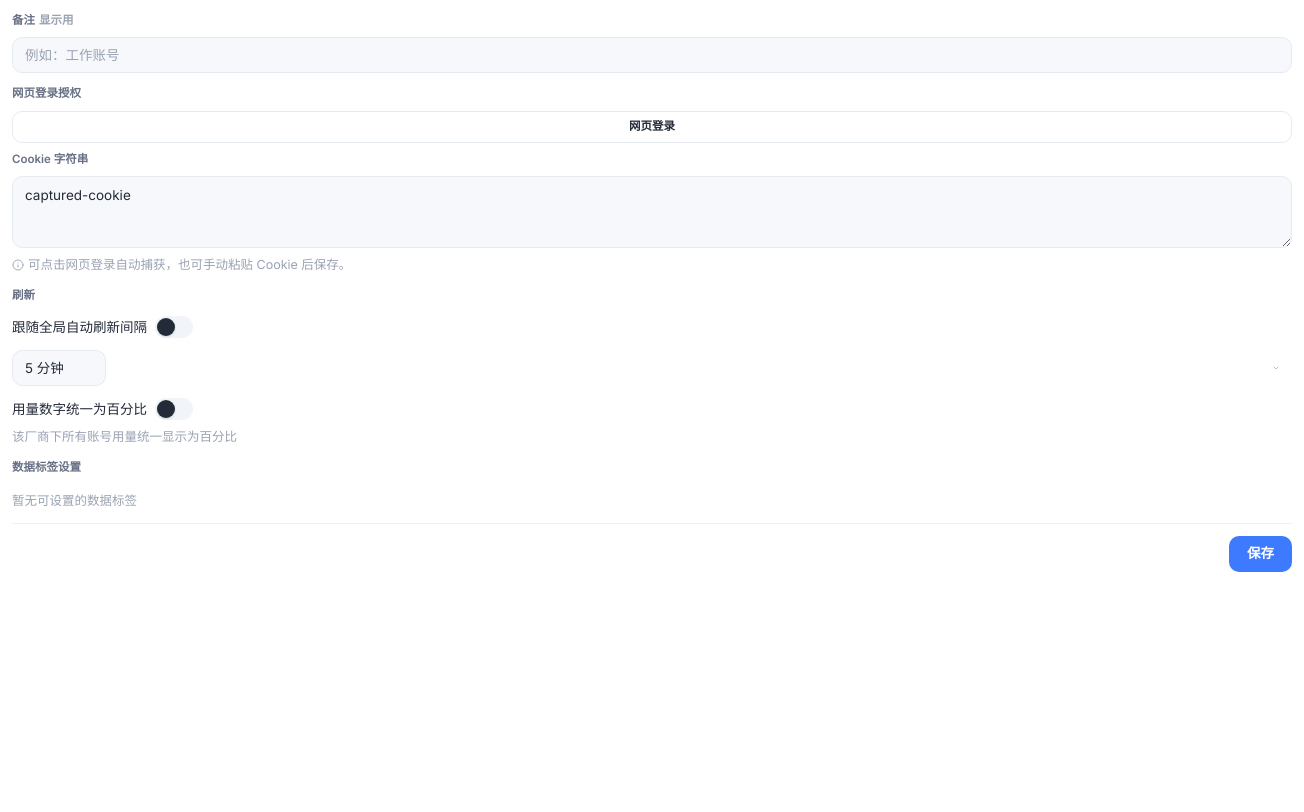
it: SettingsForm web_login editing (t157) › does not save when web login captures no cookie
Click the button "网页登录". click: [652, 126]
box: [12,110,1292,142]
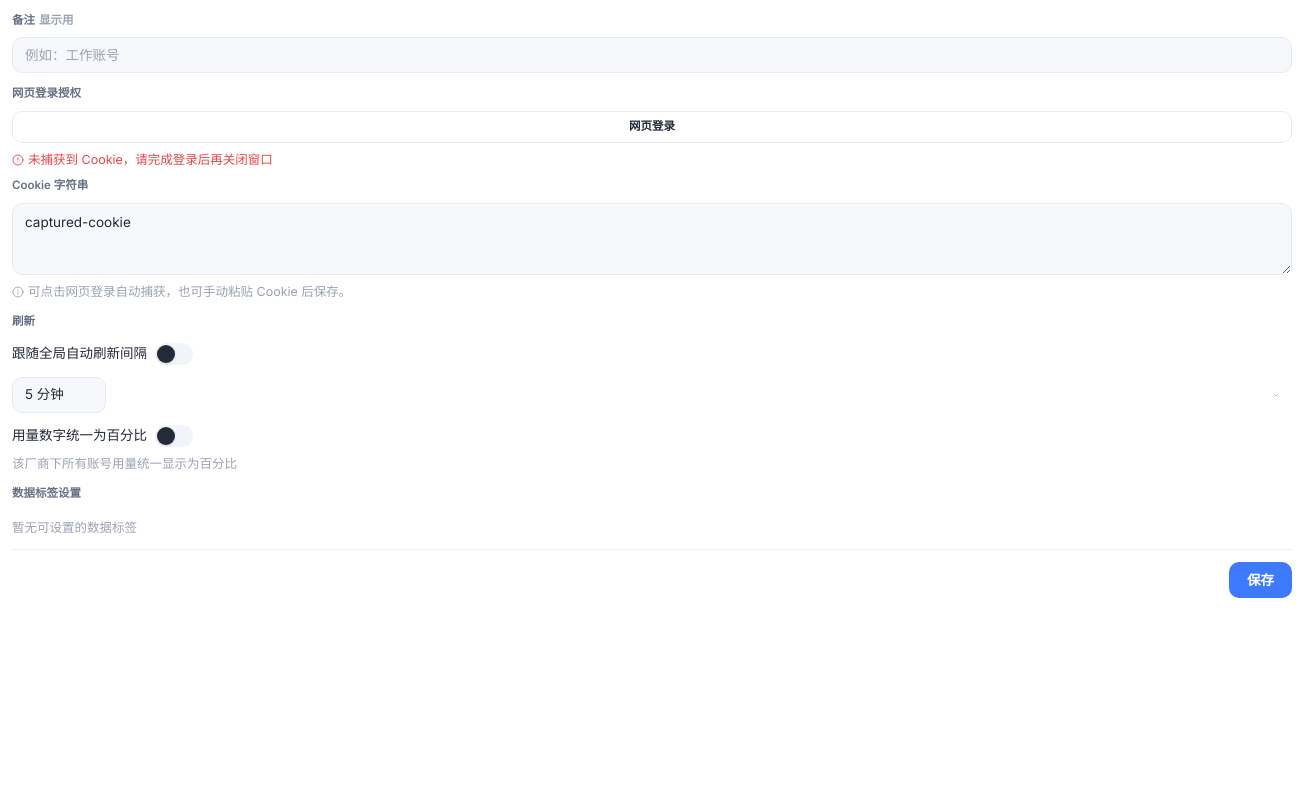
Now the text "未捕获到 Cookie，请完成登录后再关闭窗口" is shown, box [12,152,273,166]
